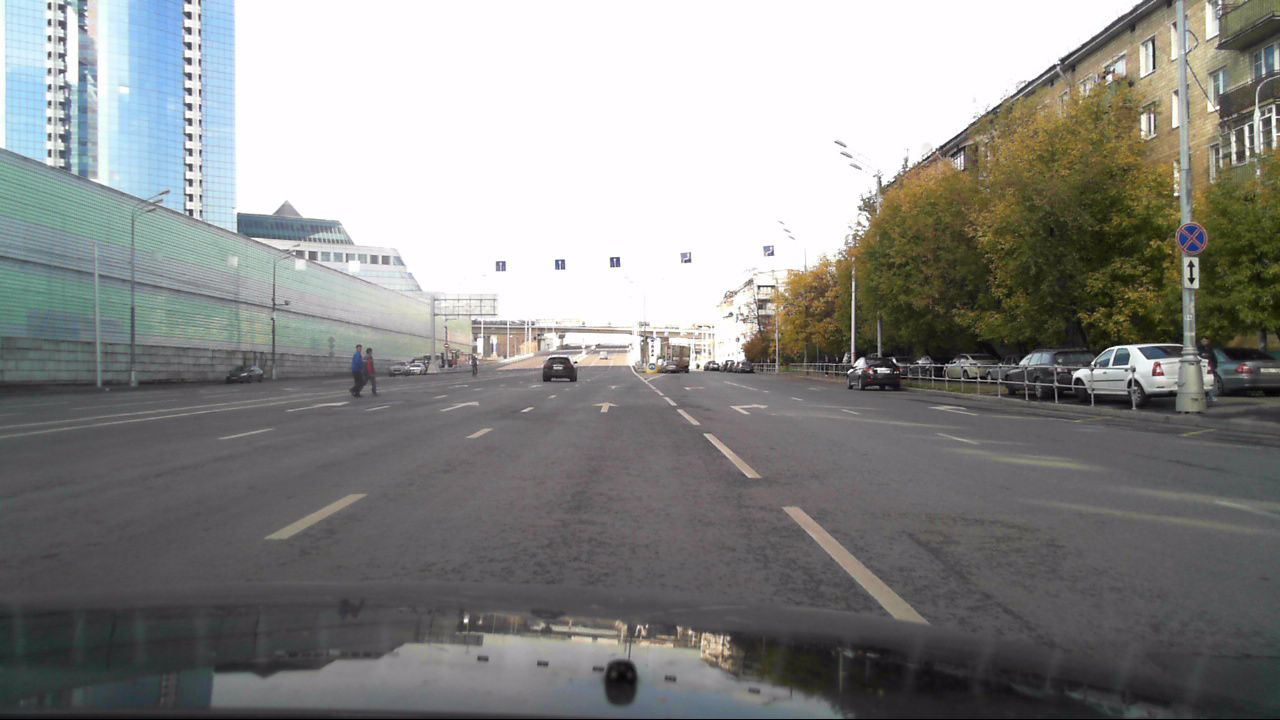No Parking: (1174, 221, 1208, 254)
